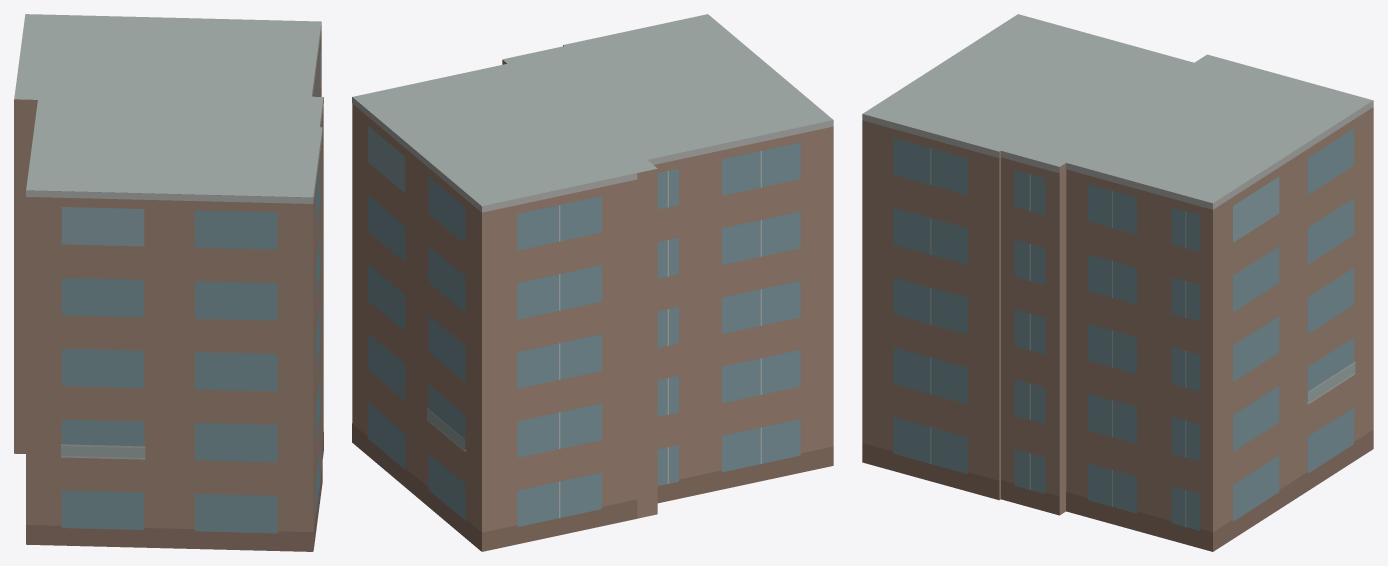
File: survey-upis-32964885.glb
The picture shows the model from 3 angles, left to right: view 1: azimuth 30°, elevation 25°; view 2: azimuth 150°, elevation 25°; view 3: azimuth 270°, elevation 25°; orthographic projection. The views are drawn at different scales.
Visible parts, largest first — view 1: survey-upis-32964885.tmp; view 2: survey-upis-32964885.tmp; view 3: survey-upis-32964885.tmp.
Boxes of the visible parts, x1,y1,x2,y2 form: survey-upis-32964885.tmp: (14, 14, 323, 551); survey-upis-32964885.tmp: (352, 14, 833, 551); survey-upis-32964885.tmp: (862, 14, 1373, 551).
Bounding box in the file's own units: 15.27 × 13.1 × 17.42.
